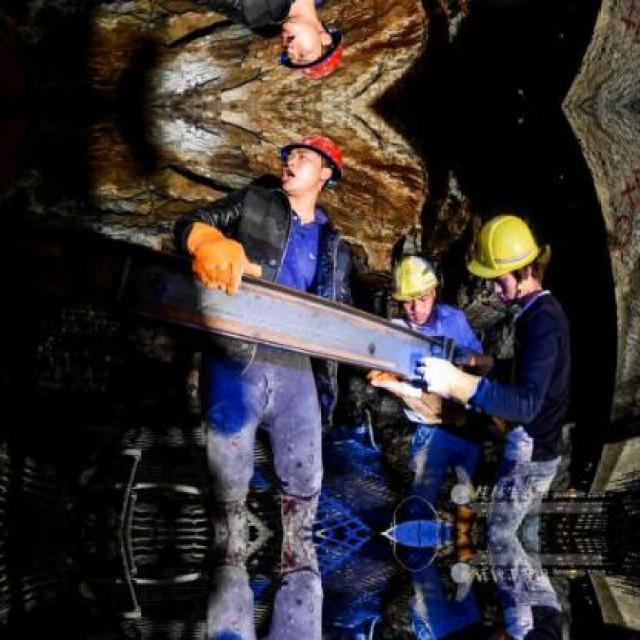helmet: (468, 206, 544, 294), (275, 123, 350, 205), (275, 7, 350, 89), (388, 248, 439, 321)
